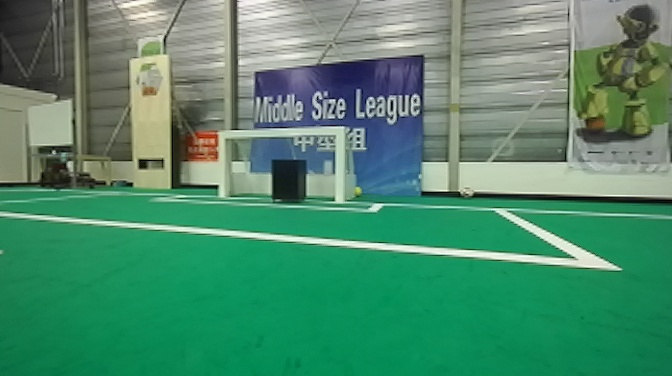ball: (456, 182, 472, 199), (350, 183, 365, 198)
goalpost: (332, 125, 346, 206), (215, 128, 231, 198)
